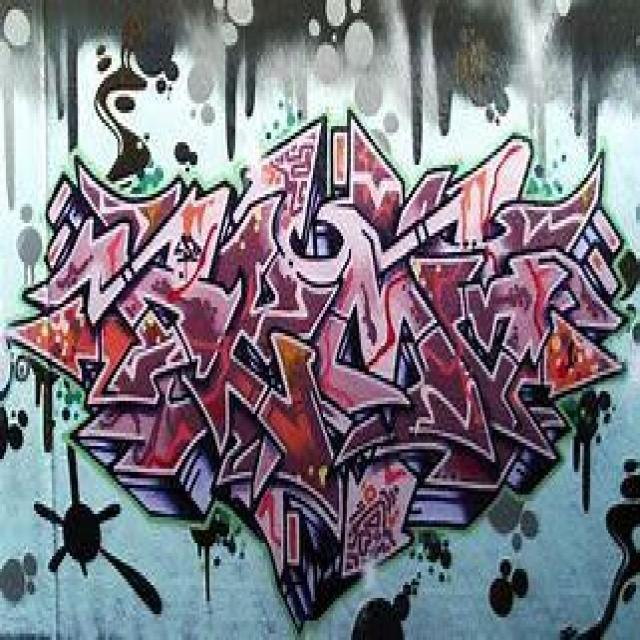nonspitting: (4, 110, 635, 630)
